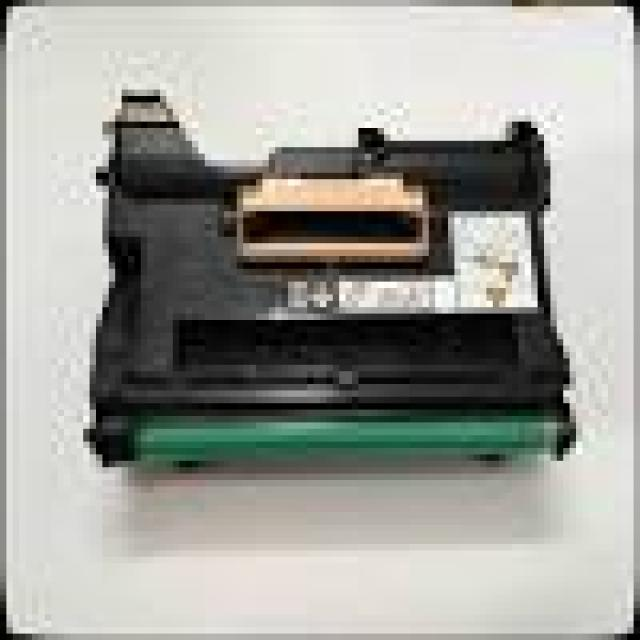printer: (76, 51, 600, 534)
